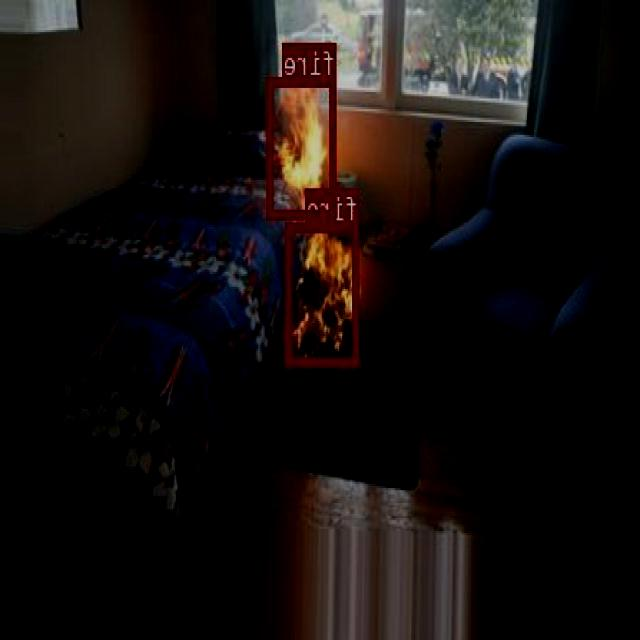fire: (286, 222, 359, 366), (270, 76, 338, 216)
